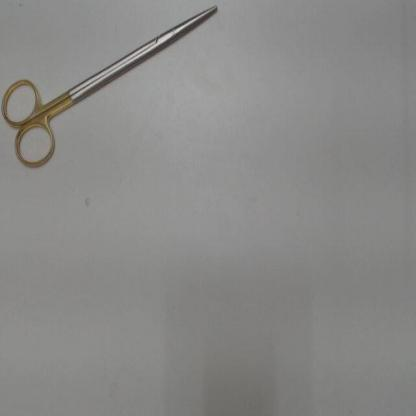7 Metzenbaum Scissors: (1, 3, 220, 172)
